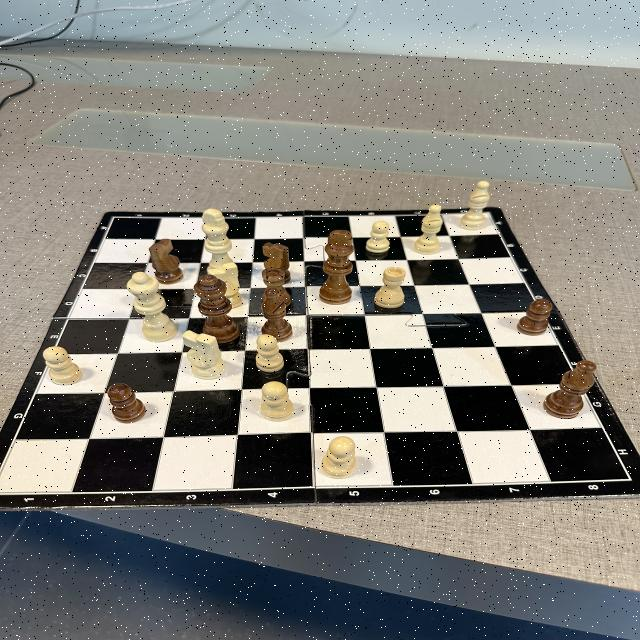Black-Bishop: (543, 361, 597, 418), (260, 288, 292, 342)
Black-King: (319, 230, 353, 306)
Black-Knight: (150, 238, 184, 284), (262, 242, 290, 284)
Black-Pawn: (108, 382, 146, 423), (517, 299, 553, 335)
Black-Queen: (193, 274, 239, 344)
Black-Rook: (262, 267, 291, 307)
White-Bishop: (414, 204, 443, 254), (460, 182, 490, 230)
White-King: (202, 209, 238, 279)
White-Knight: (182, 330, 226, 380), (208, 262, 242, 308)
White-Pawn: (42, 346, 82, 386), (322, 436, 356, 478), (260, 381, 294, 421), (255, 334, 285, 372), (366, 221, 390, 253)
White-Queen: (126, 272, 178, 342)
White-Rook: (374, 266, 406, 308)
